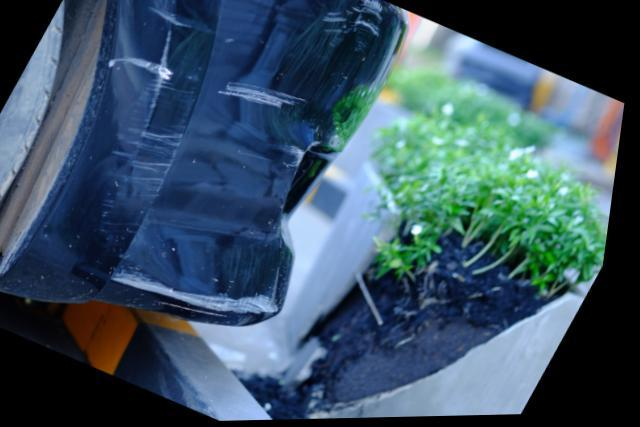scratch: (107, 0, 179, 209), (119, 260, 287, 319), (217, 81, 311, 116), (317, 0, 383, 47), (272, 141, 324, 170)
